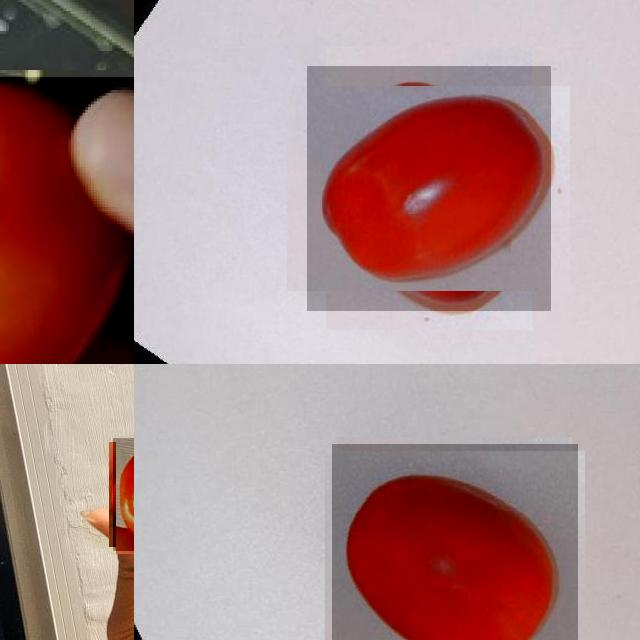0: (331, 443, 578, 640)
Fresh Tomato: (307, 66, 551, 311), (0, 77, 134, 364)
